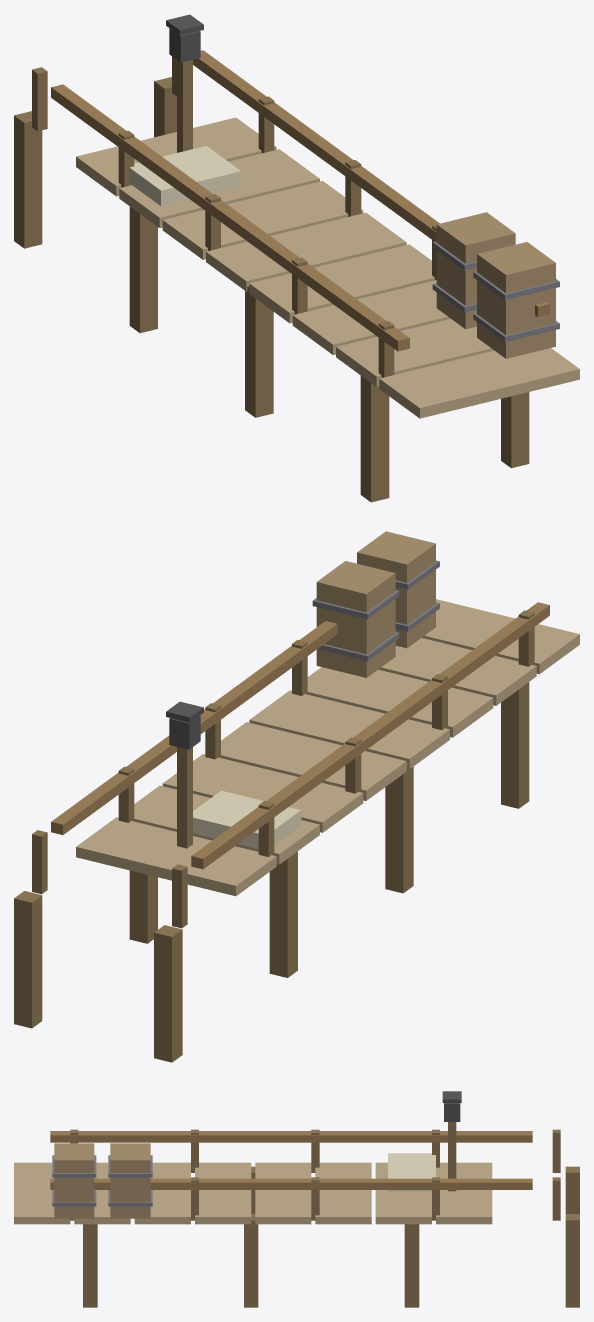
The model's file is prop_pier.glb.
3 views of the same model, one above another, from view 1: azimuth 30°, elevation 25°; view 2: azimuth 150°, elevation 25°; view 3: azimuth 270°, elevation 25° (orthographic). The views are drawn at different scales.
Visible parts, largest first — view 1: Prop_Pier; view 2: Prop_Pier; view 3: Prop_Pier.
Part boxes in pixels (x1=…): Prop_Pier: x1=14, y1=14, x2=579, y2=502; Prop_Pier: x1=14, y1=531, x2=579, y2=1062; Prop_Pier: x1=14, y1=1091, x2=579, y2=1307.
Size of the model in its own units: 1.67 by 2.55 by 7.04.
